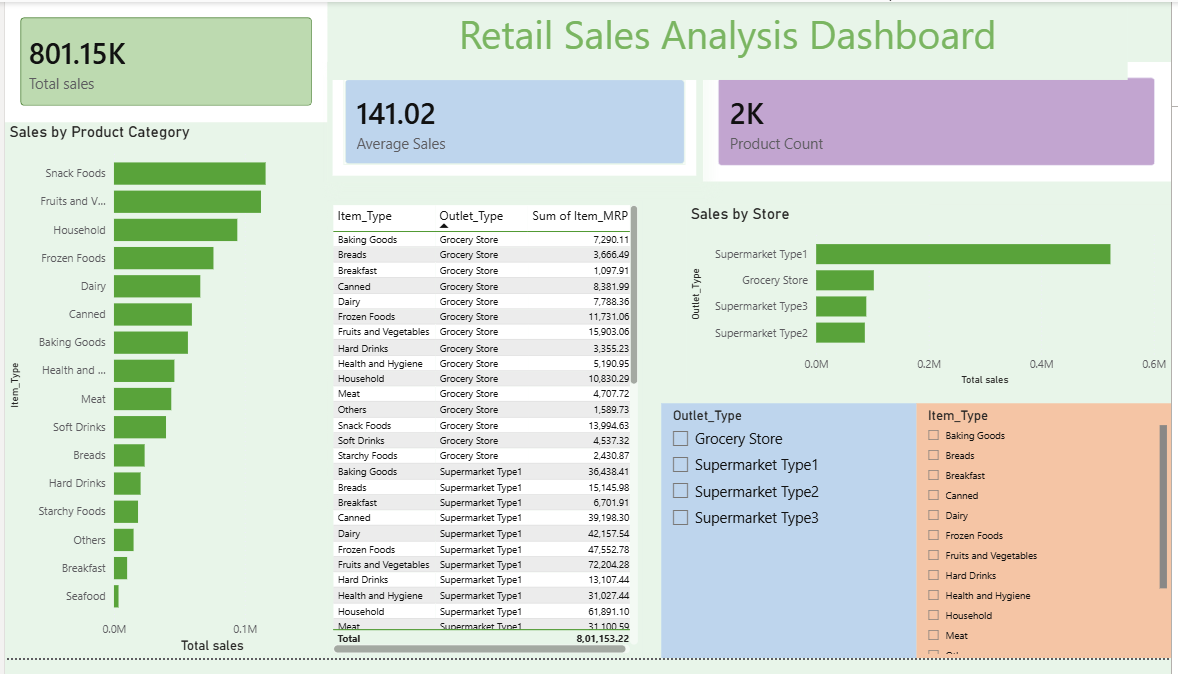

The page's visual inventory and layout, read from the dashboard file:
{"tool":"powerbi","page":{"name":"Page 1","canvas":[1280,720],"ordinal":0},"visuals":[{"type":"clusteredBarChart","title":"Sales by Product Category","fields":{"Category":["Big_Mart_Sales.Item_Type"],"Y":["Big_Mart_Sales.Total Sales"]},"box":[0,131.4,354.3,588.6],"z":0},{"type":"clusteredBarChart","title":"Sales by Store","fields":{"Category":["Big_Mart_Sales.Outlet_Type"],"Y":["Big_Mart_Sales.Total Sales"]},"box":[747.9,222.3,532.4,203.1],"z":1000},{"type":"cardVisual","title":"Total Revenue","fields":{"Data":["Big_Mart_Sales.Total Sales"]},"box":[0,0,354,131.7],"z":2000},{"type":"slicer","fields":{"Values":["Big_Mart_Sales.Item_Type"]},"box":[1000.3,440.5,279.9,279.9],"z":3000},{"type":"slicer","fields":{"Values":["Big_Mart_Sales.Outlet_Type"]},"box":[720,440,280,280],"z":4000},{"type":"tableEx","fields":{"Values":["Big_Mart_Sales.Item_Type","Big_Mart_Sales.Outlet_Type","Sum(Big_Mart_Sales.Item_MRP)"]},"box":[354.3,218.6,345.7,501.4],"z":5000},{"type":"cardVisual","fields":{"Data":["Big_Mart_Sales.Product Count"]},"box":[765.7,65.7,514.3,131.4],"z":6000},{"type":"cardVisual","fields":{"Data":["Big_Mart_Sales.Average Sales"]},"box":[354,65.9,411.7,131.7],"z":7000},{"type":"textbox","box":[354.3,0,878.6,85.7],"z":8000}]}

Visuals, with their boxes in screenshot pixels (x1, y1, x2, y2), scaled from the page's 1280x720 canvas onto the 1178x674 screenshot:
"Sales by Product Category" clusteredBarChart: bbox(0, 123, 326, 673)
"Sales by Store" clusteredBarChart: bbox(688, 208, 1177, 398)
"Total Revenue" cardVisual: bbox(0, 0, 326, 123)
slicer - Big_Mart_Sales.Item_Type: bbox(921, 412, 1177, 673)
slicer - Big_Mart_Sales.Outlet_Type: bbox(663, 412, 920, 673)
tableEx - Big_Mart_Sales.Item_Type x Big_Mart_Sales.Outlet_Type: bbox(326, 205, 644, 673)
cardVisual - Big_Mart_Sales.Product Count: bbox(705, 62, 1177, 185)
cardVisual - Big_Mart_Sales.Average Sales: bbox(326, 62, 705, 185)
textbox: bbox(326, 0, 1135, 80)
